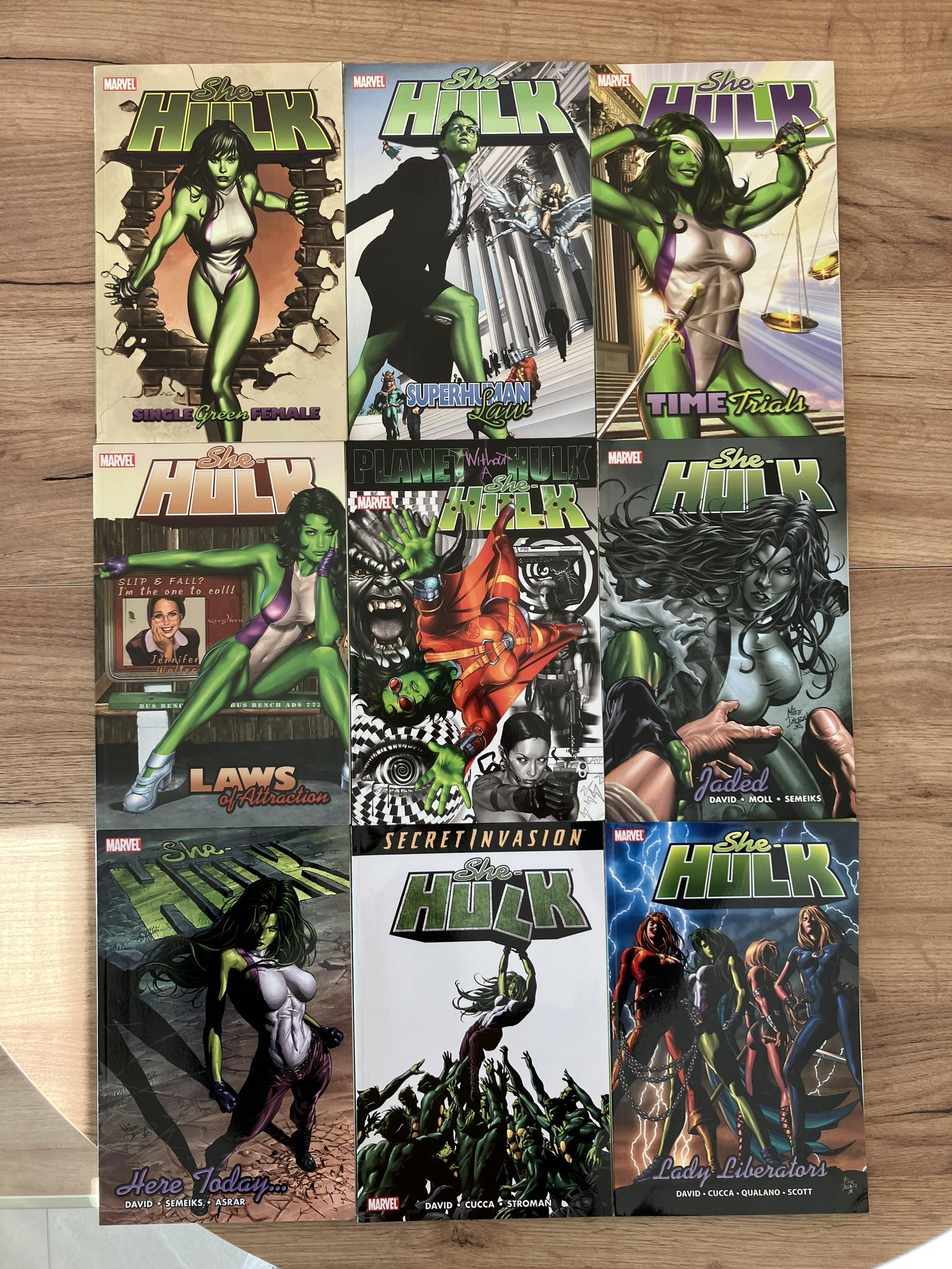comic: (605, 816, 867, 1218), (351, 820, 611, 1221), (97, 824, 354, 1227), (92, 440, 350, 833), (596, 433, 855, 824), (348, 438, 601, 825), (589, 58, 844, 441), (343, 60, 595, 443), (95, 62, 345, 442)
